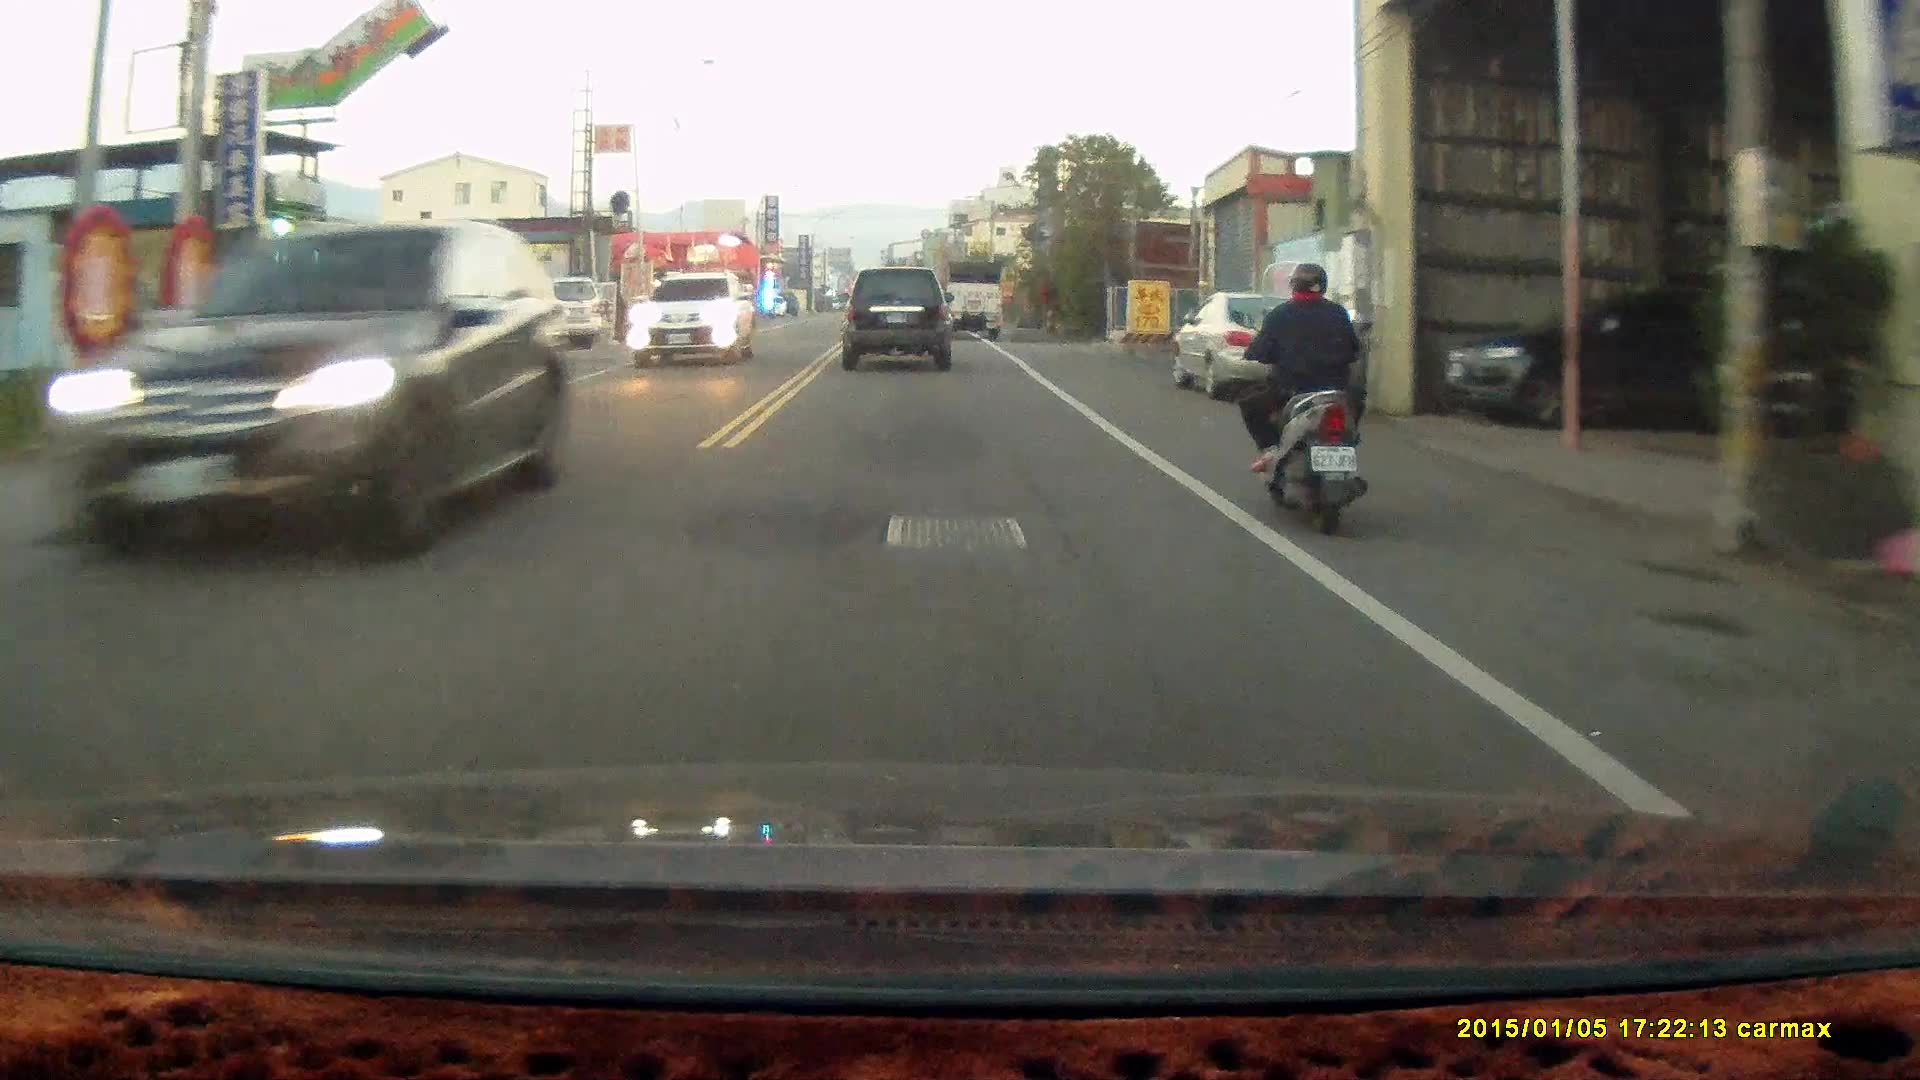rider: (1226, 257, 1367, 534)
vehicle: (77, 208, 574, 581), (1446, 294, 1753, 429), (1172, 282, 1349, 398), (626, 273, 759, 372), (842, 268, 957, 371), (496, 275, 600, 355), (935, 259, 1005, 339)
